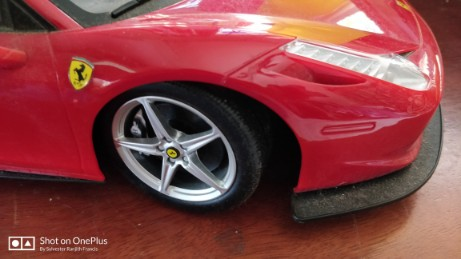unaligned_wheel: (89, 80, 291, 216)
